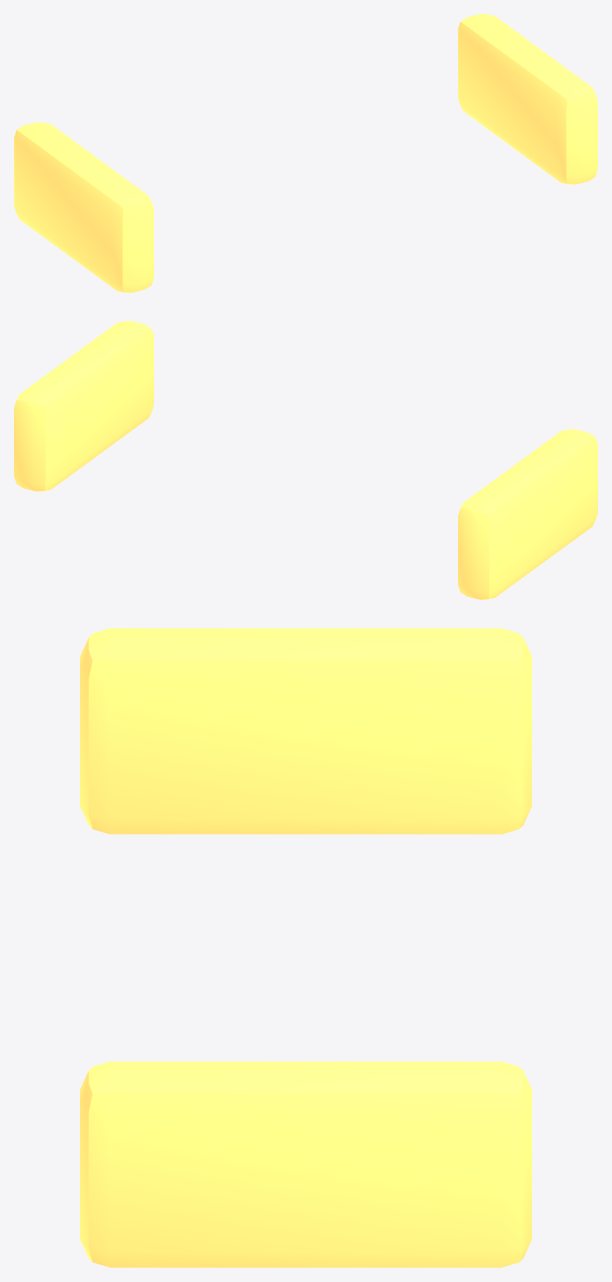
The model's file is multitool_light_rifle.glb.
3 renders of one model, top to bottom at view 1: azimuth 30°, elevation 25°; view 2: azimuth 150°, elevation 25°; view 3: azimuth 270°, elevation 25°, orthographic. The views are drawn at different scales.
Parts seen in each view (by area): view 1: multitool_light_rifle; view 2: multitool_light_rifle; view 3: multitool_light_rifle.
Part boxes in pixels (bbox=[...]): multitool_light_rifle: bbox=[14, 14, 597, 292]; multitool_light_rifle: bbox=[14, 321, 597, 599]; multitool_light_rifle: bbox=[80, 628, 531, 1267].
Size of the model in its own units: 0.074 by 0.014 by 0.03.
